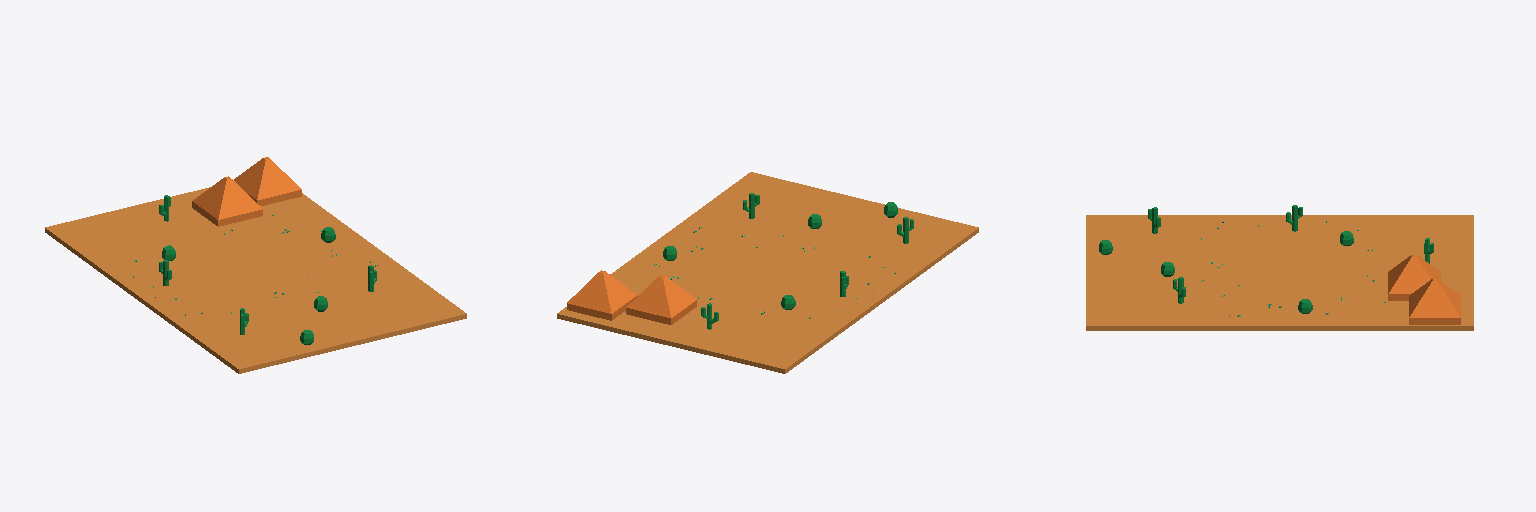
File: sands.obj
3 renders of one model, left to right at view 1: azimuth 30°, elevation 25°; view 2: azimuth 150°, elevation 25°; view 3: azimuth 270°, elevation 25°, orthographic.
Visible parts, largest first — view 1: mergedBlocks; view 2: mergedBlocks; view 3: mergedBlocks.
Boxes of the visible parts, <box> form: mergedBlocks: <box>45,157,466,373</box>; mergedBlocks: <box>557,172,978,373</box>; mergedBlocks: <box>1086,205,1473,330</box>.
Bounding box in the file's own units: 51 × 8.26 × 75.